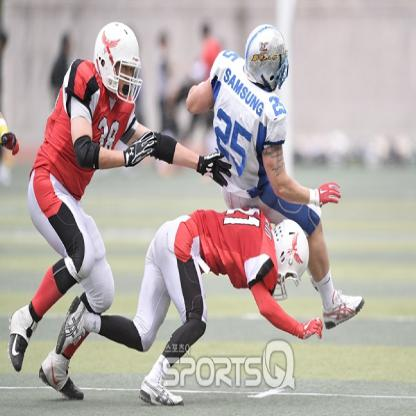Fall_Down: (56, 206, 322, 408)
